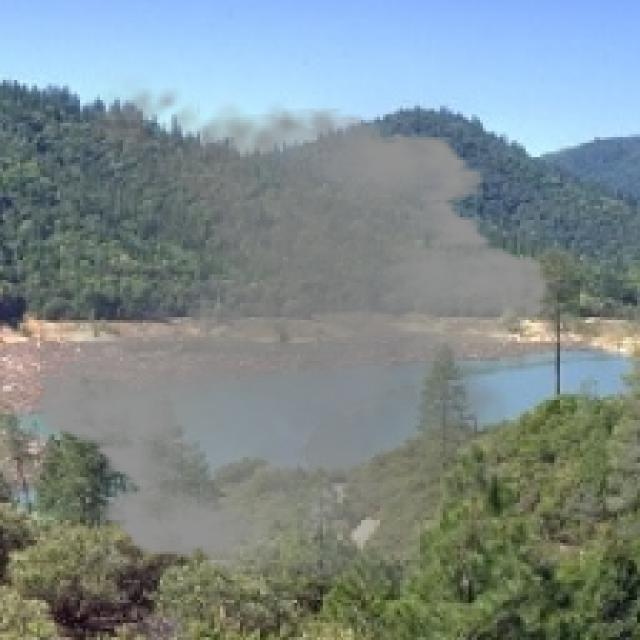smoke: (20, 71, 566, 606)
